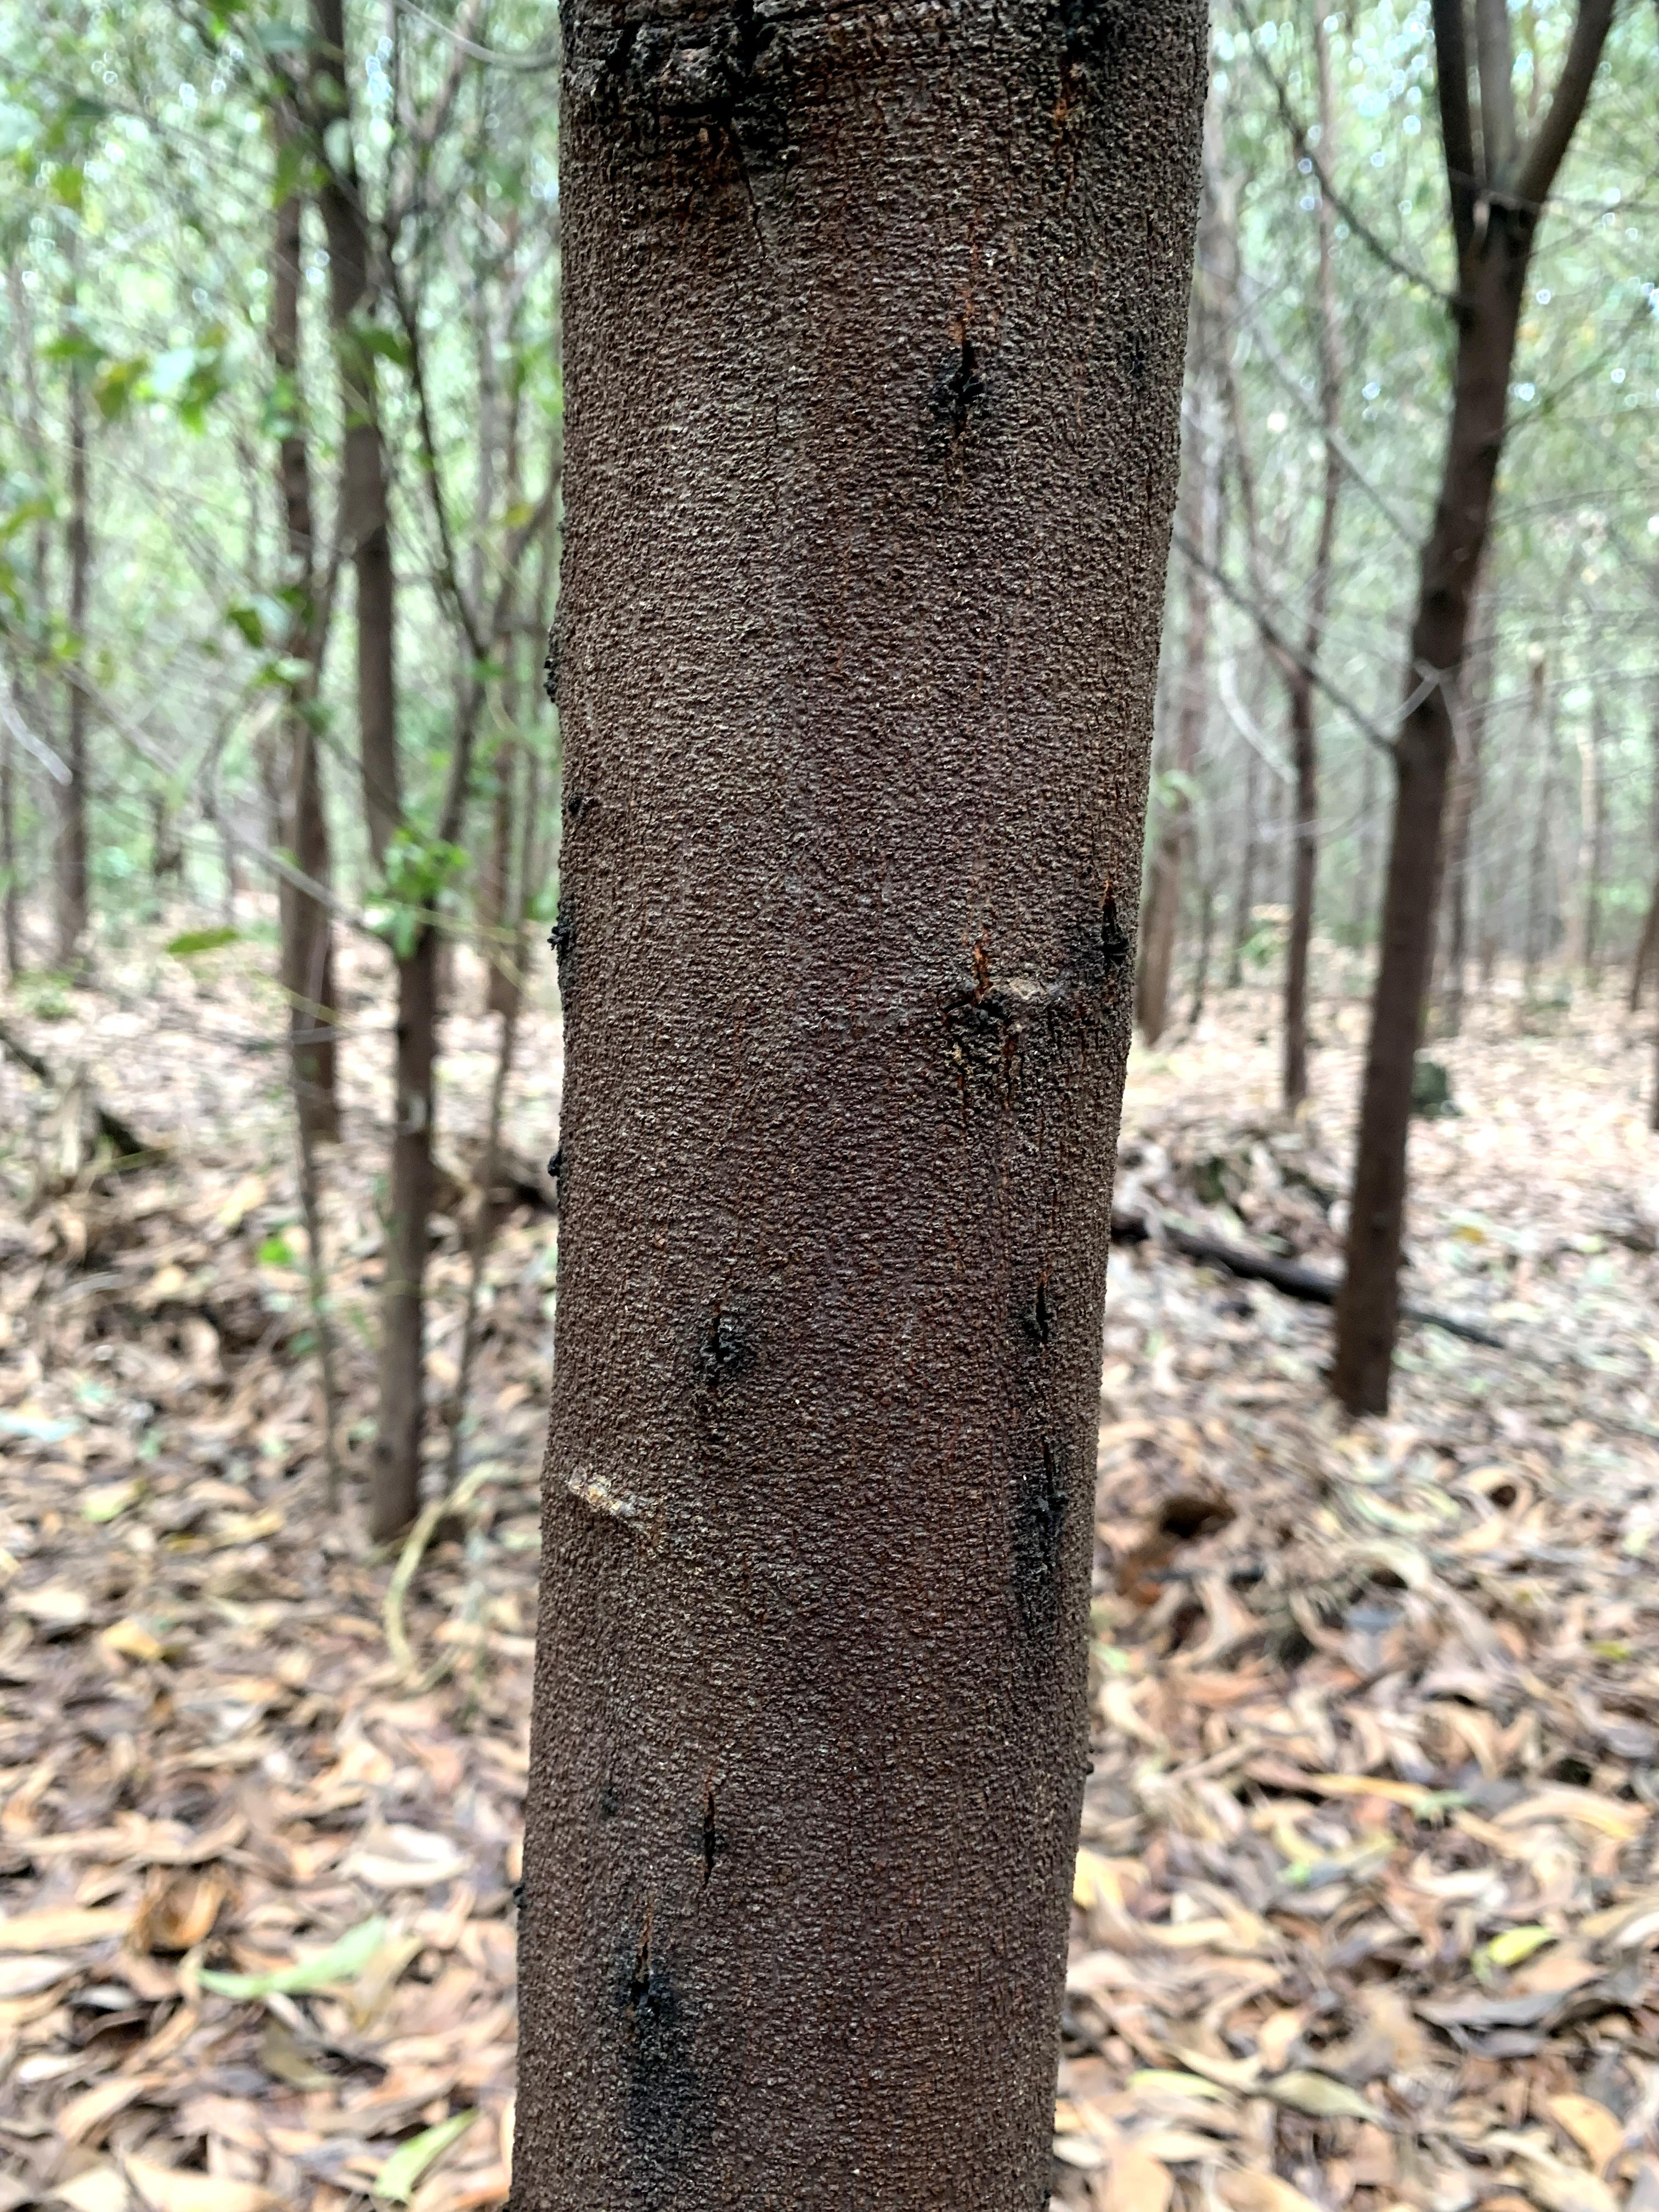Stem Borer: (1068, 860, 1145, 1024), (918, 320, 1016, 444), (681, 1296, 763, 1426), (615, 1949, 690, 2088), (1004, 1247, 1087, 1369), (673, 1791, 751, 1905), (1025, 1442, 1089, 1555)
